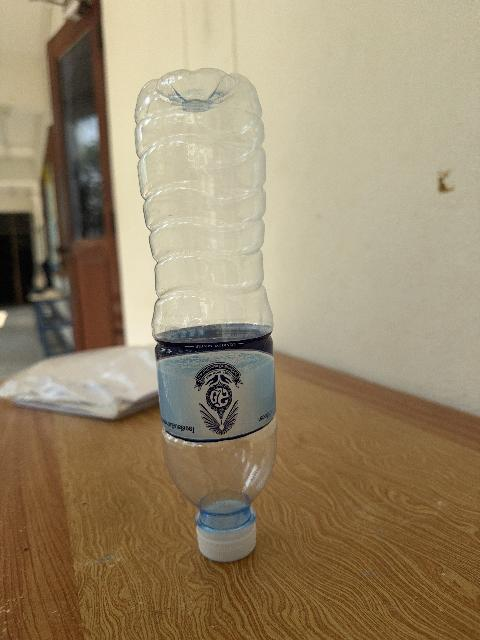bottle: (136, 69, 276, 561)
